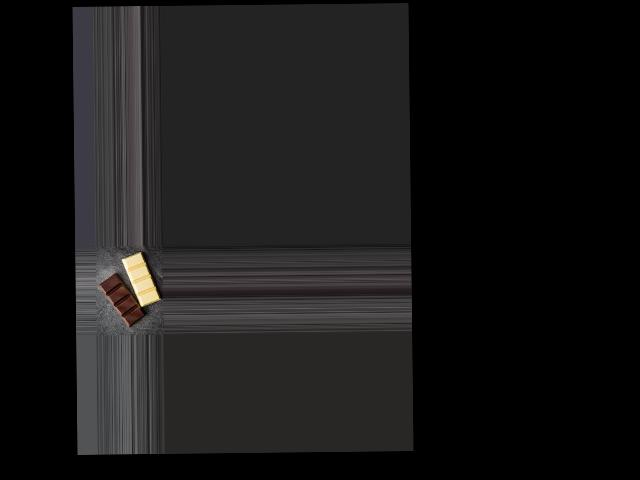chocolate: (100, 248, 160, 327)
